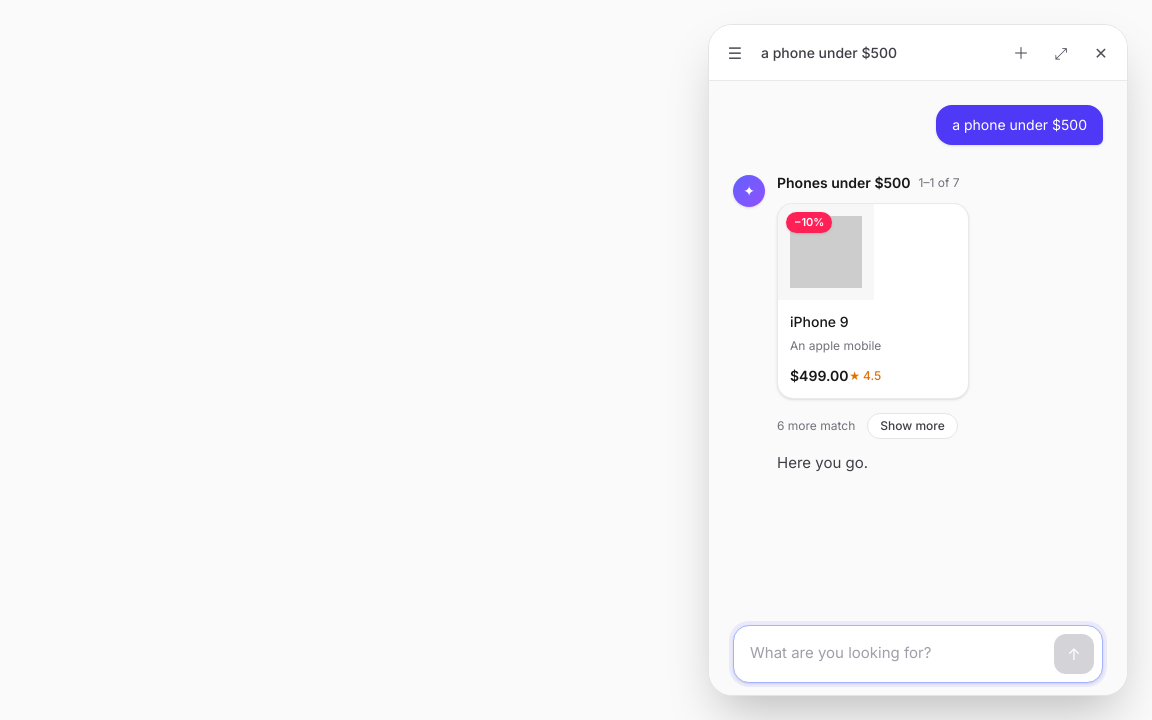
WidgetShell (US6b) › ＋ starts a new chat; the old one stays in the list (AC6b.2)
Check: the text "Here you go." is shown, box x1=777 y1=452 x2=868 y2=472
Click the button named "New chat".
click(1021, 52)  # box x1=1003 y1=34 x2=1039 y2=70
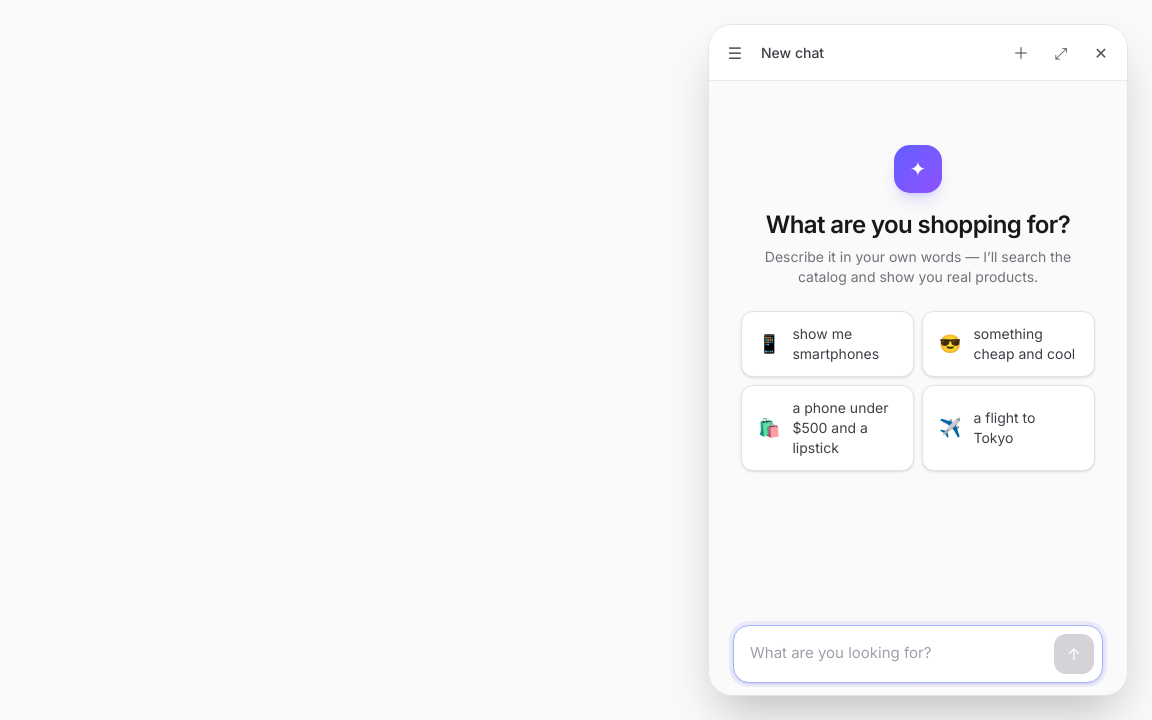
Check: the heading "What are you shopping for?" is shown, box x1=766 y1=209 x2=1070 y2=241
